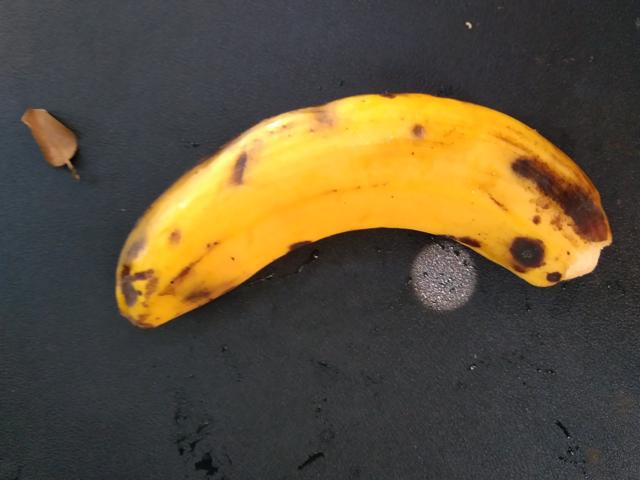overripe: (80, 71, 629, 364)
